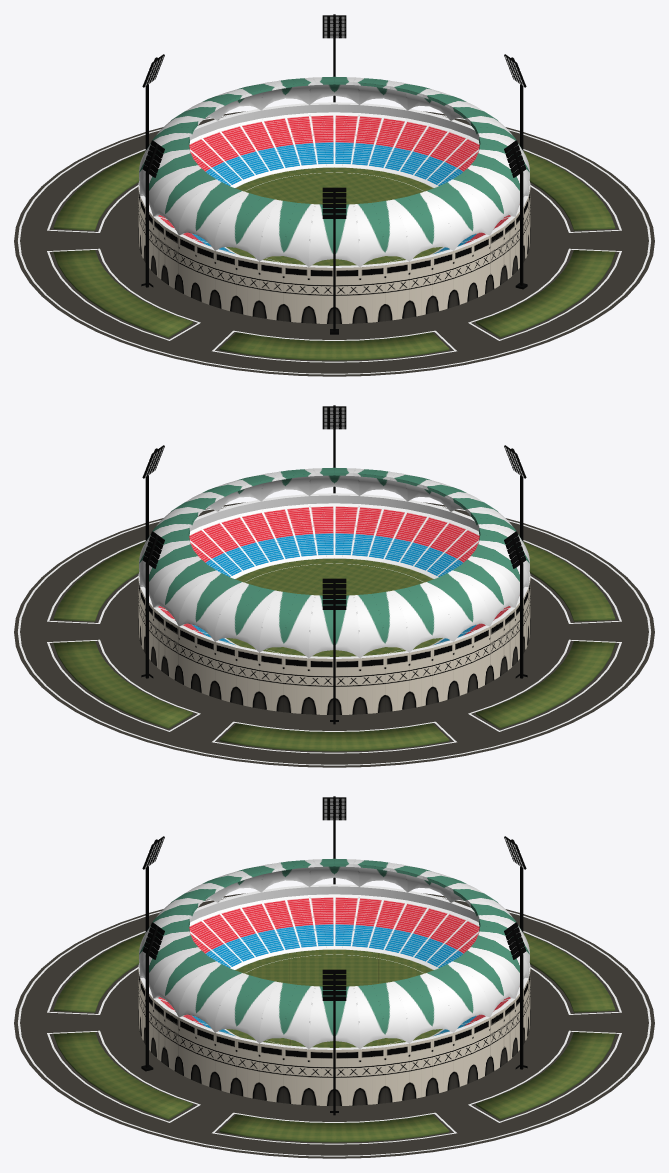
File: Ekana Stadium1.fbx
3 views of the same model, one above another, from view 1: azimuth 30°, elevation 25°; view 2: azimuth 150°, elevation 25°; view 3: azimuth 270°, elevation 25° (orthographic).
Visible parts, largest first — view 1: Ekana Stadium; view 2: Ekana Stadium; view 3: Ekana Stadium.
Boxes of the visible parts, <box> form: Ekana Stadium: <box>14,14,654,376</box>; Ekana Stadium: <box>14,405,654,767</box>; Ekana Stadium: <box>14,796,654,1158</box>.
Size of the model in its own units: 327 by 78.92 by 327.
Materials: 1 (1 with a texture image).
